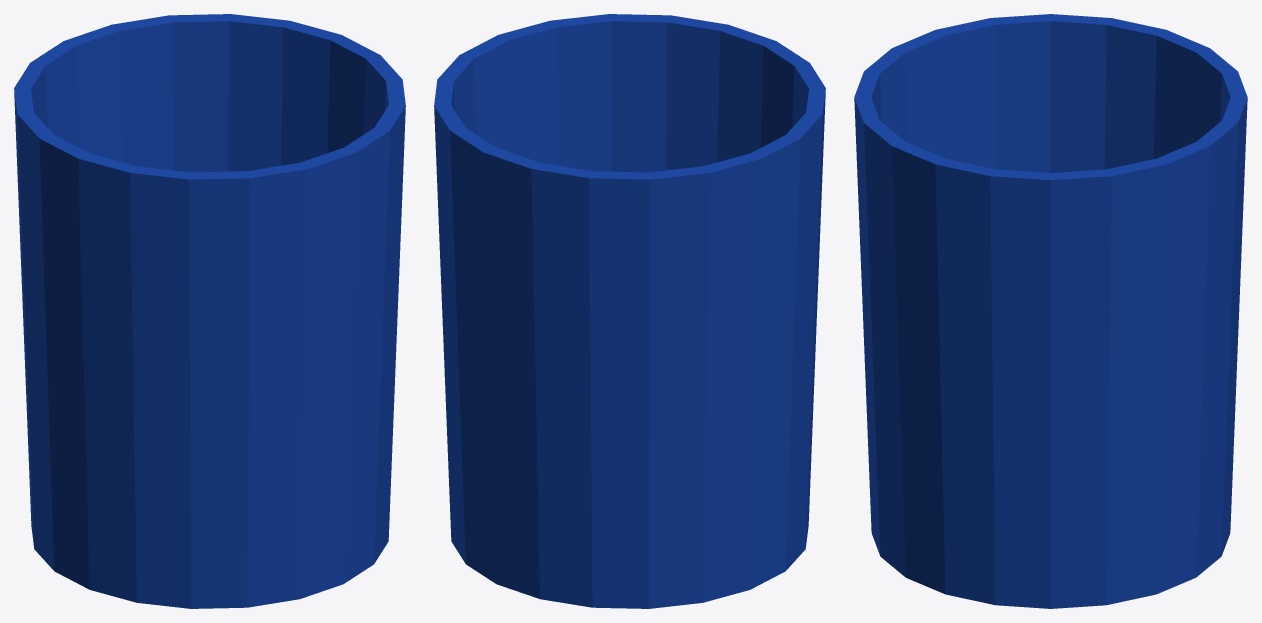
The model's file is cup_blue.gltf.
The picture shows the model from 3 angles, left to right: view 1: azimuth 30°, elevation 25°; view 2: azimuth 150°, elevation 25°; view 3: azimuth 270°, elevation 25°; orthographic projection.
Parts seen in each view (by area): view 1: node-0.001; view 2: node-0.001; view 3: node-0.001.
Part boxes in pixels (x1=…): node-0.001: x1=14, y1=14, x2=405, y2=608; node-0.001: x1=434, y1=14, x2=825, y2=608; node-0.001: x1=854, y1=14, x2=1247, y2=608.
Bounding box in the file's own units: 0.0633 × 0.0774 × 0.0633.
